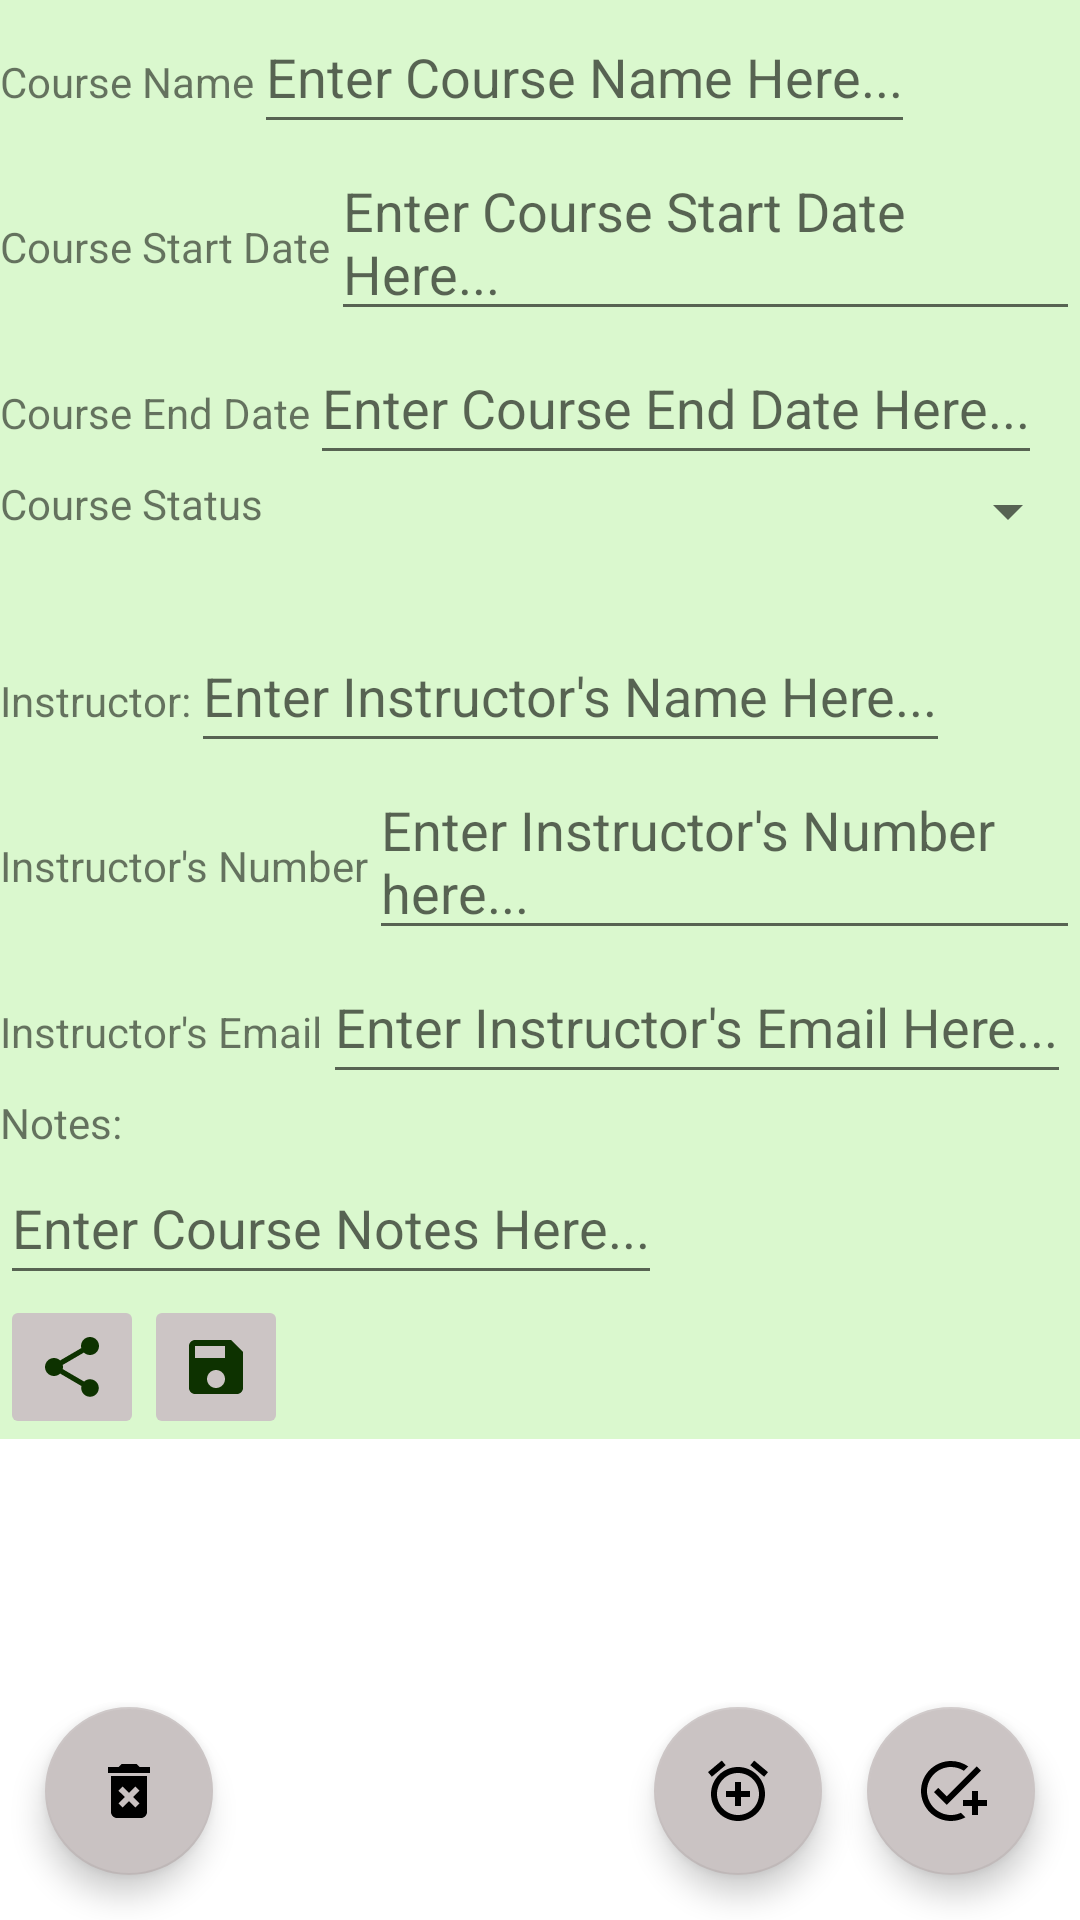

Screen size 1080px x 1920px. Icon name, then its center in pixels as point (x, y):
add alarm: point (738, 1791)
Add New Assessment: point (951, 1791)
delete forever: point (129, 1791)
Save: point (216, 1367)
Share button text: point (72, 1367)
